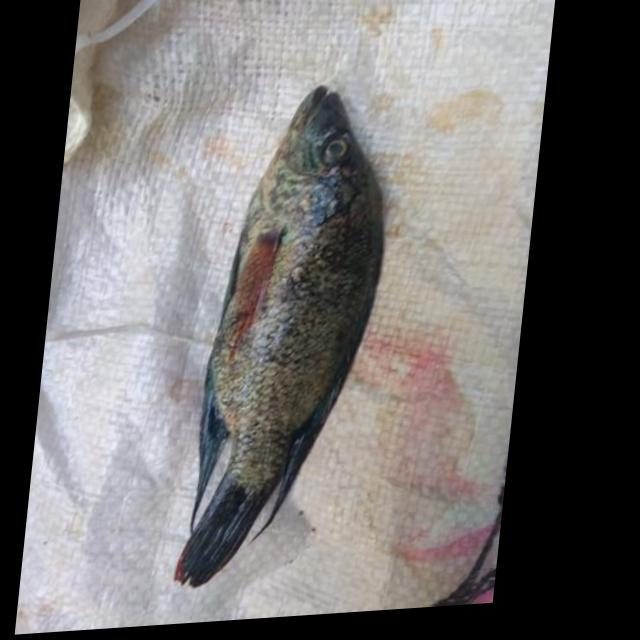Tilapia: (168, 79, 401, 591)
